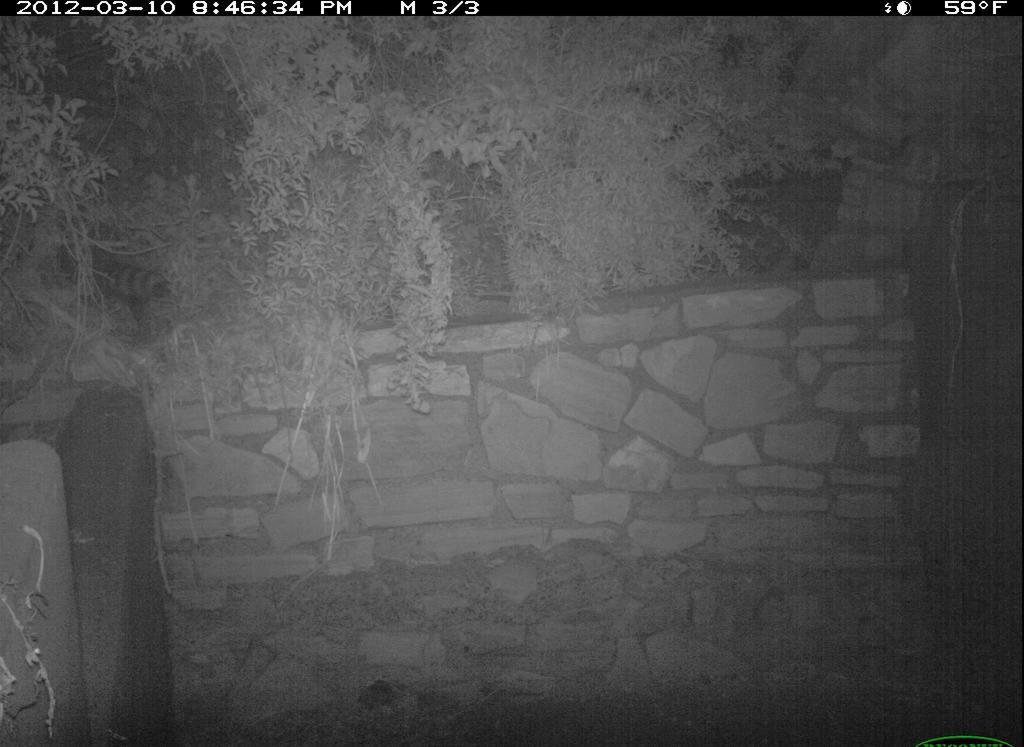raccoon: (25, 214, 180, 345)
